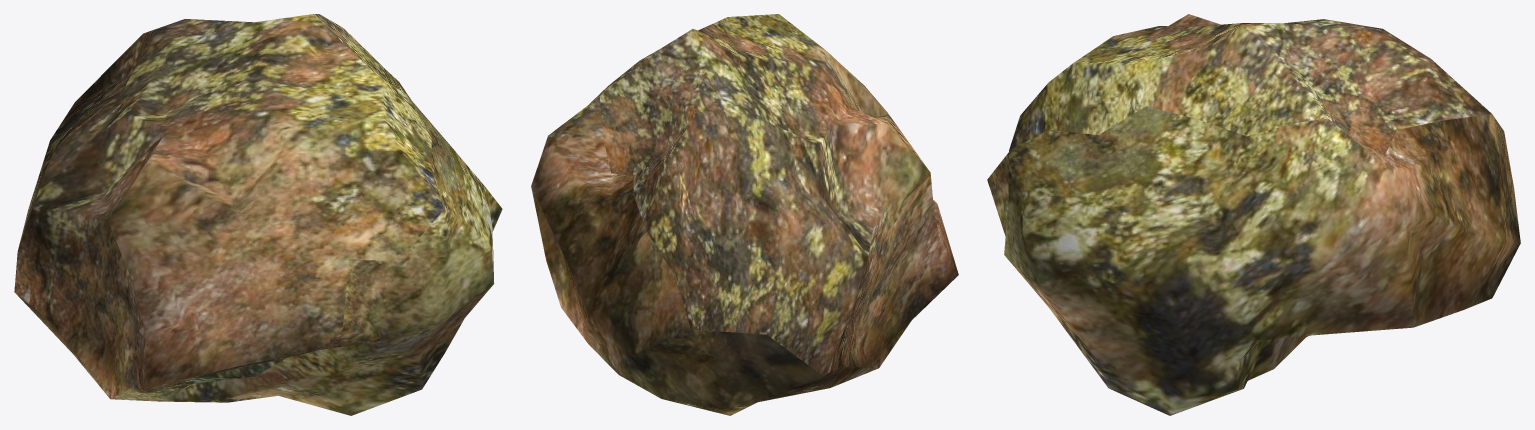
The model's file is uranium.fbx.
3 renders of one model, left to right at view 1: azimuth 30°, elevation 25°; view 2: azimuth 150°, elevation 25°; view 3: azimuth 270°, elevation 25°, orthographic. The views are drawn at different scales.
Visible parts, largest first — view 1: Mesh; view 2: Mesh; view 3: Mesh.
Boxes of the visible parts, <box> form: Mesh: <box>14,14,502,415</box>; Mesh: <box>531,14,958,415</box>; Mesh: <box>987,14,1520,415</box>.
Bounding box in the file's own units: 8.82 × 8.44 × 10.73.
Materials: 1 (1 with a texture image).
